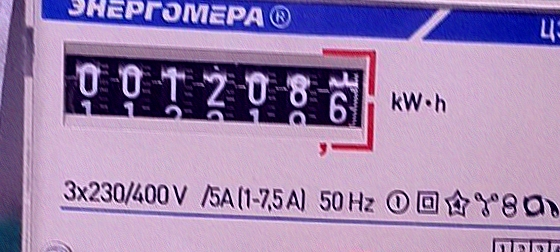0: (75, 58, 102, 97), (119, 61, 144, 98), (244, 68, 269, 105)
1: (161, 63, 183, 102)
2: (203, 69, 230, 108)
6: (325, 87, 349, 124)
8: (285, 70, 311, 108)
screen: (54, 33, 386, 156)
